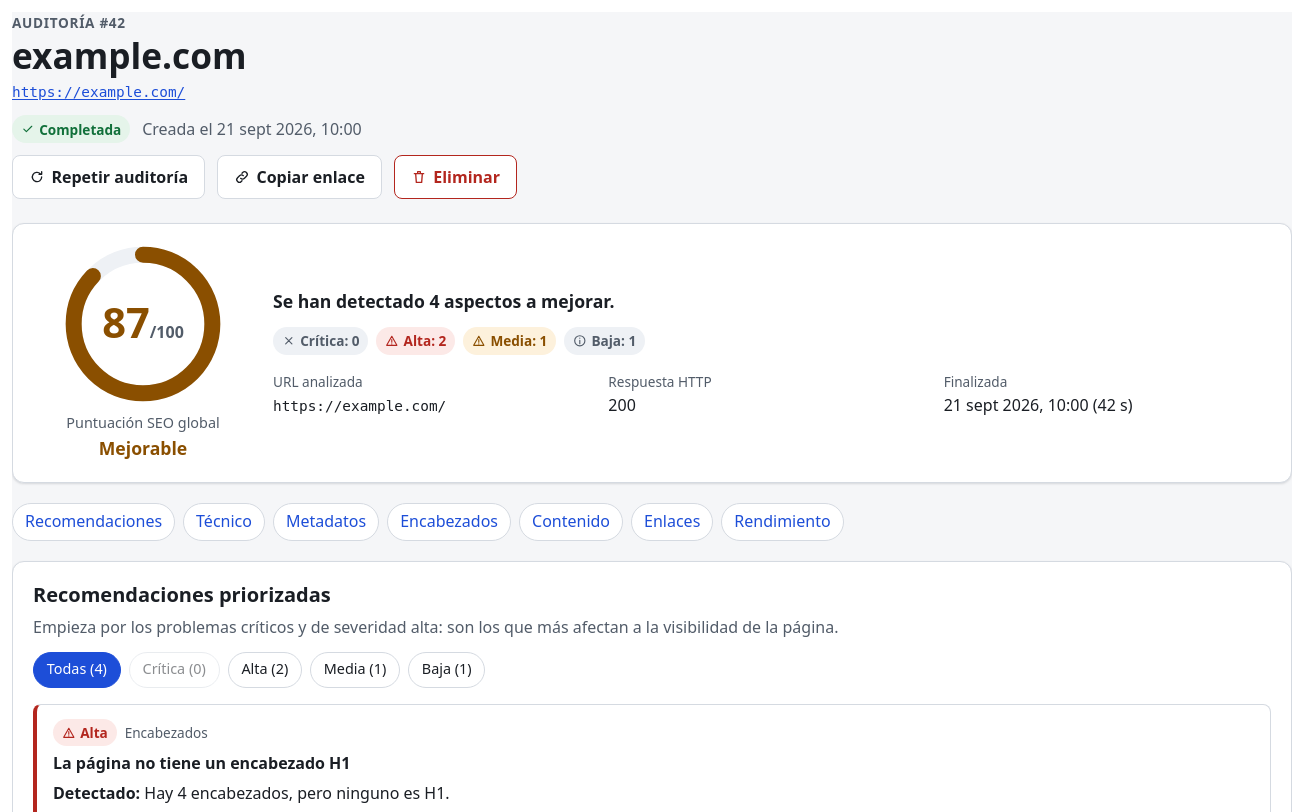
Scenario: AuditPage › copies a shareable link to the audit
The width and height of the screenshot is (1292, 812).
Click the button "Copiar enlace" at (300, 177), box [217,155,382,199]
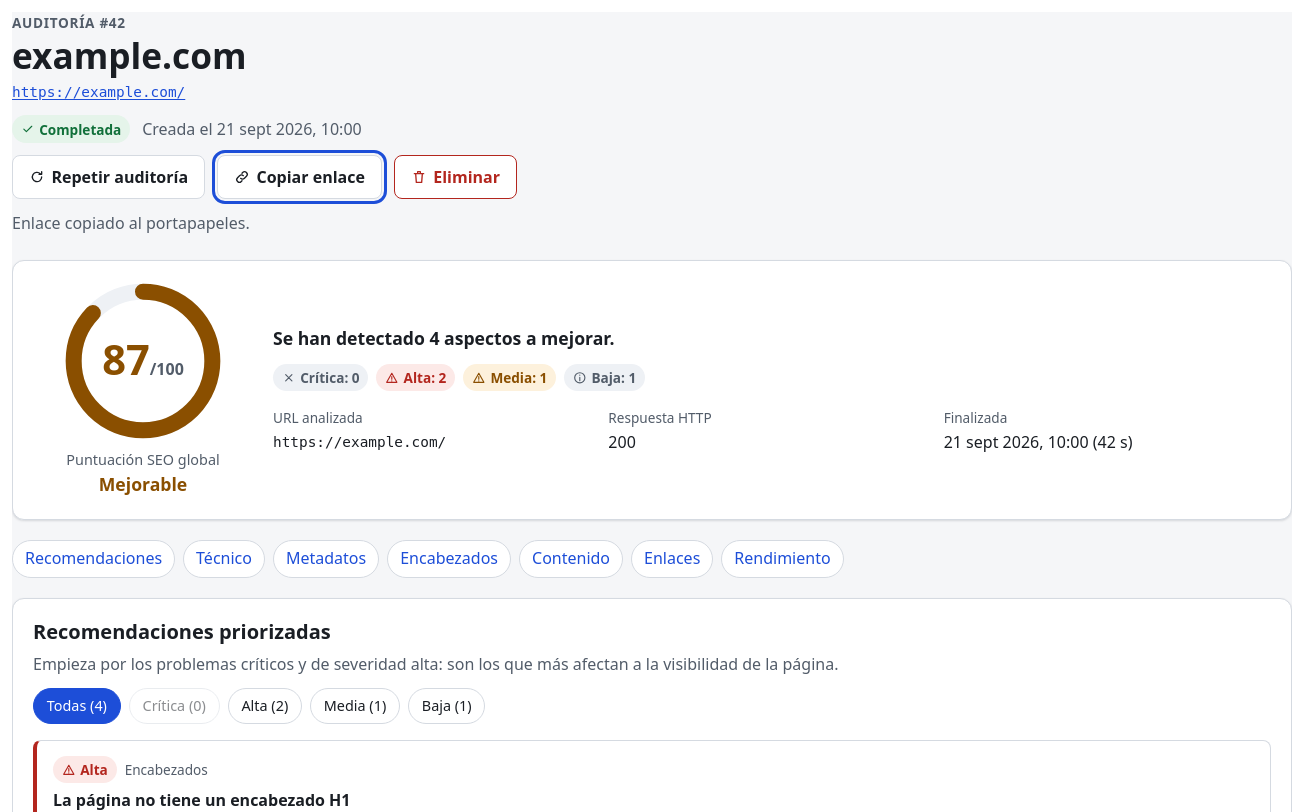
Expected: the text "Enlace copiado al portapapeles." is shown, [12,212,250,234]
